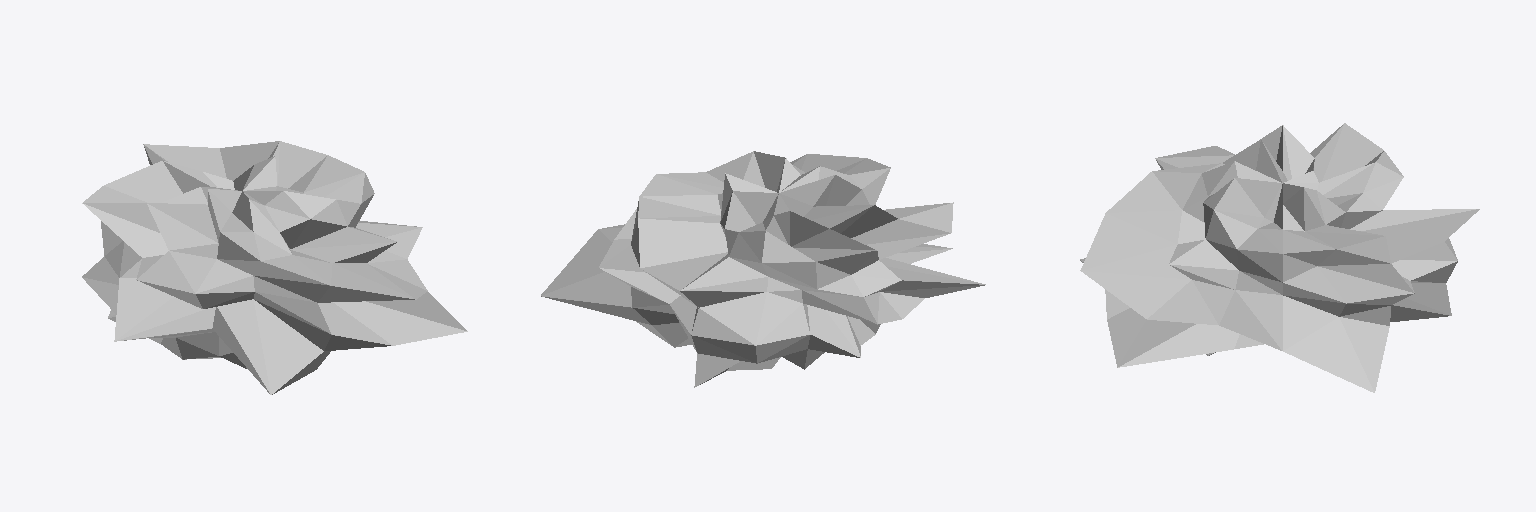
The model's file is rock12.Obj.
The picture shows the model from 3 angles: view 1: azimuth 30°, elevation 25°; view 2: azimuth 150°, elevation 25°; view 3: azimuth 270°, elevation 25°; orthographic projection.
Visible parts, largest first — view 1: default; view 2: default; view 3: default.
Boxes of the visible parts, box(x1,y1,x2,y2) form: default: box(82, 141, 467, 394); default: box(541, 151, 985, 387); default: box(1080, 123, 1479, 392).
Bounding box in the file's own units: 1.42 × 0.6645 × 1.37.